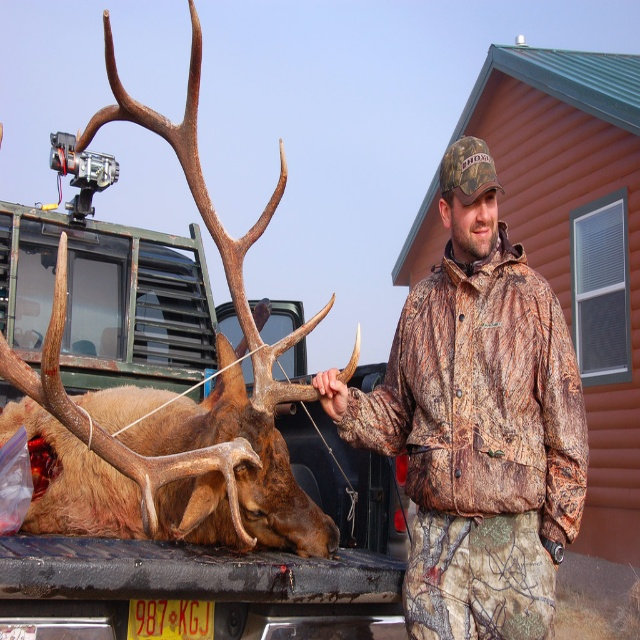Deer: (1, 0, 361, 561)
